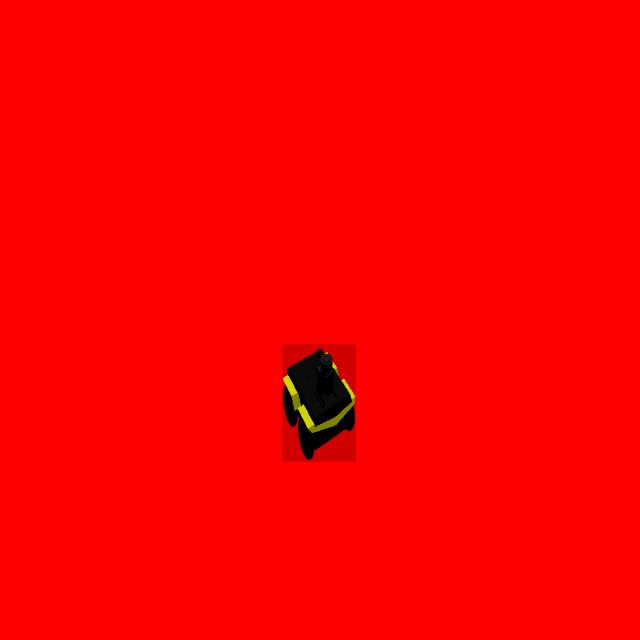jackal: (282, 344, 356, 462)
